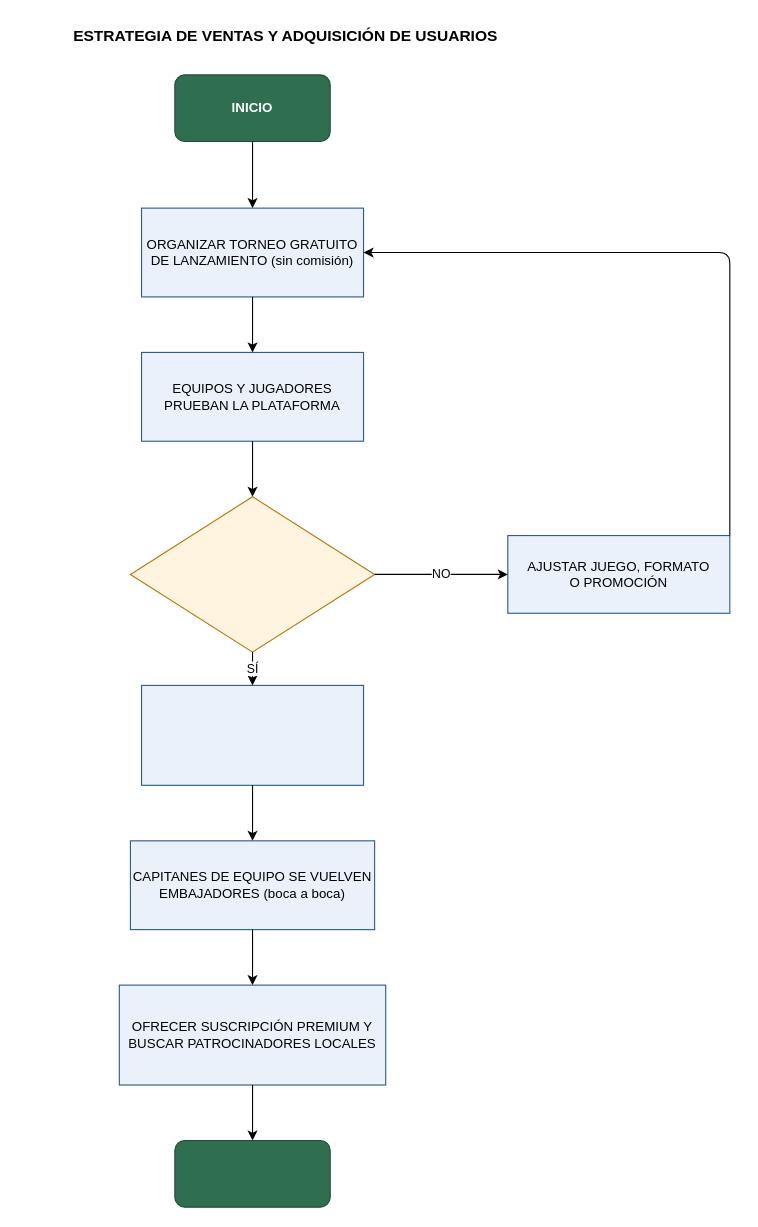
This 758x1227 diagram has some shape labels left out. The centre of each missing label's shape, as x and y in pixels:
FIN: point 252,1173
LANZAR LIGA MENSUAL DE PAGO CON PREMIOS REALES: point 252,734
¿HUBO BUENA PARTICIPACIÓN Y FEEDBACK POSITIVO?: point 252,574
